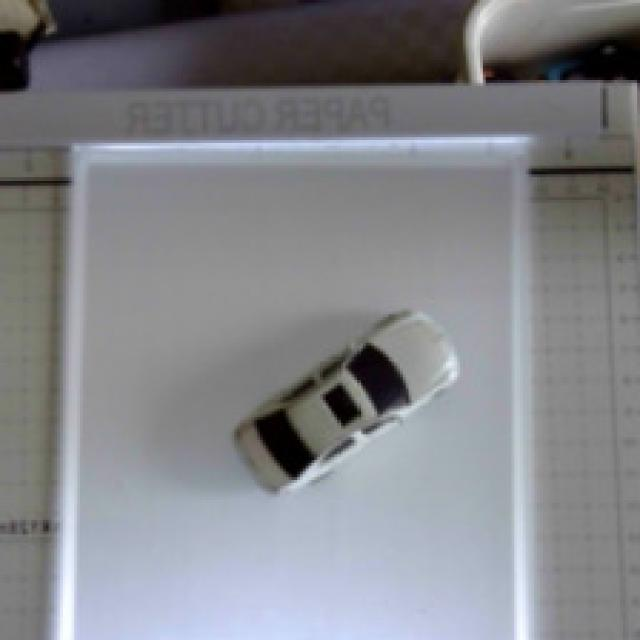Grey Car: (201, 265, 488, 547)
